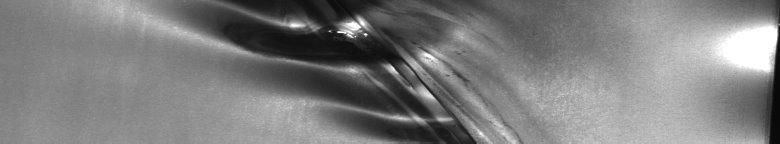ke: (219, 4, 483, 136)
